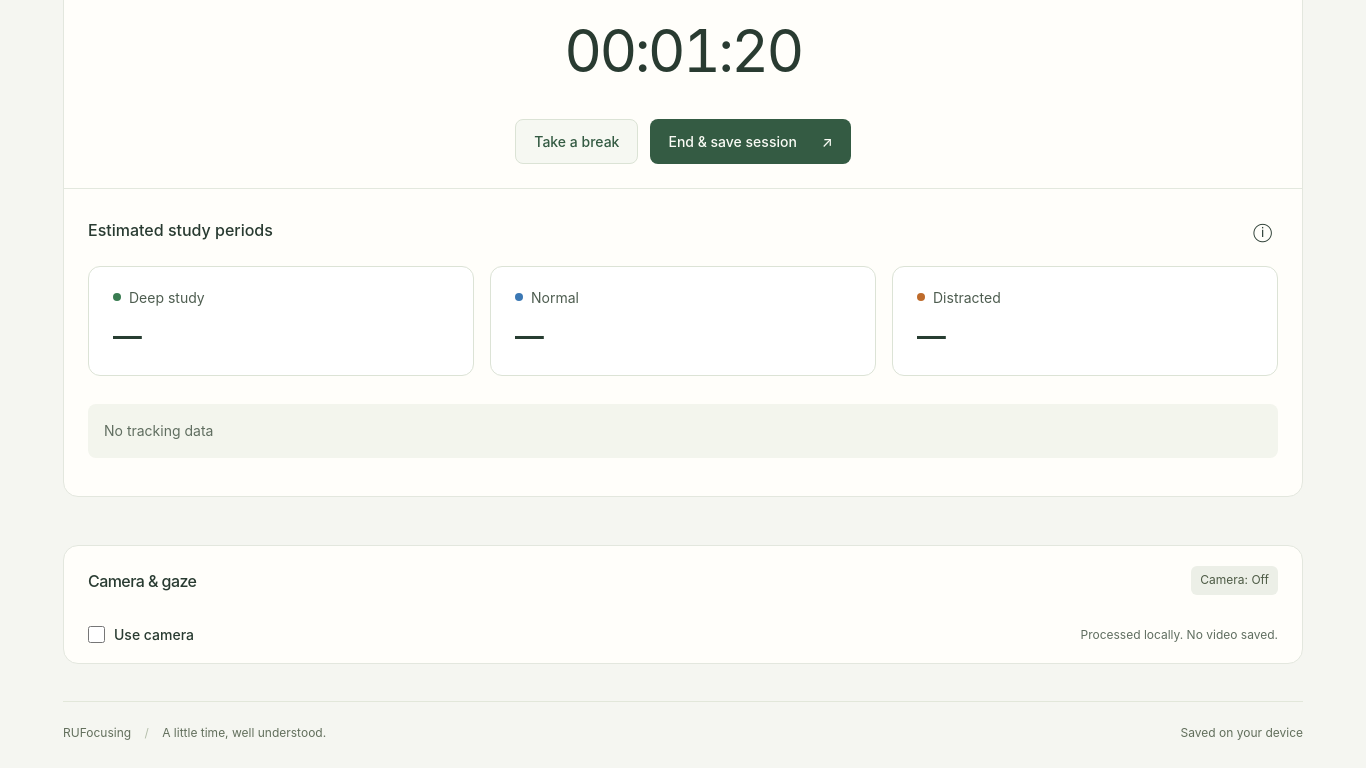
it: Dashboard camera controls › toggles observations without changing the timer and closes the preview on disable
The width and height of the screenshot is (1366, 768).
(page scrolled)
Click the checkbox labelled "Use camera" at (96, 635), box [88,626,105,644]
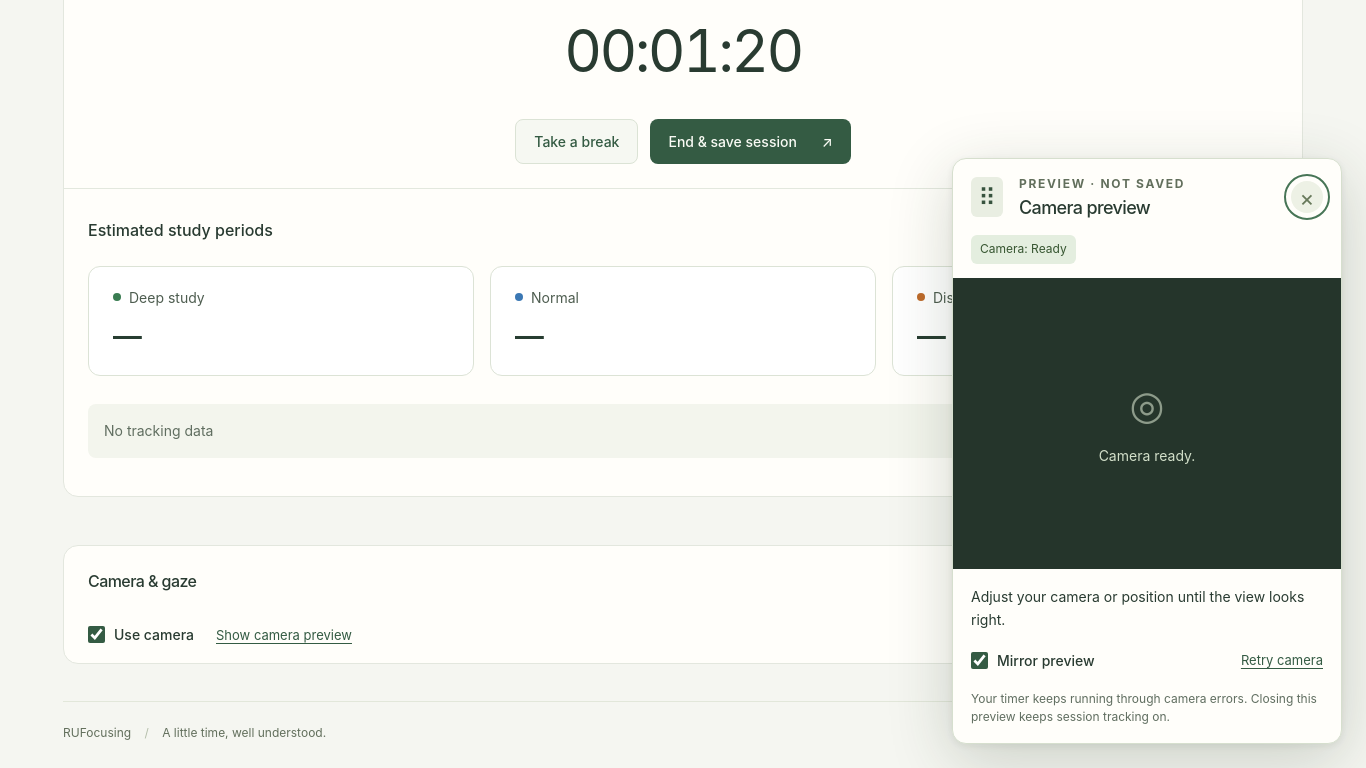
Expected: the text "00:01:20" is shown, [564,15,802,86]
Expected: the checkbox labelled "Use camera" is checked
Expected: the dialog is shown, [952,158,1342,744]
Click the checkbox labelled "Use camera" at (96, 635), box [88,626,105,644]
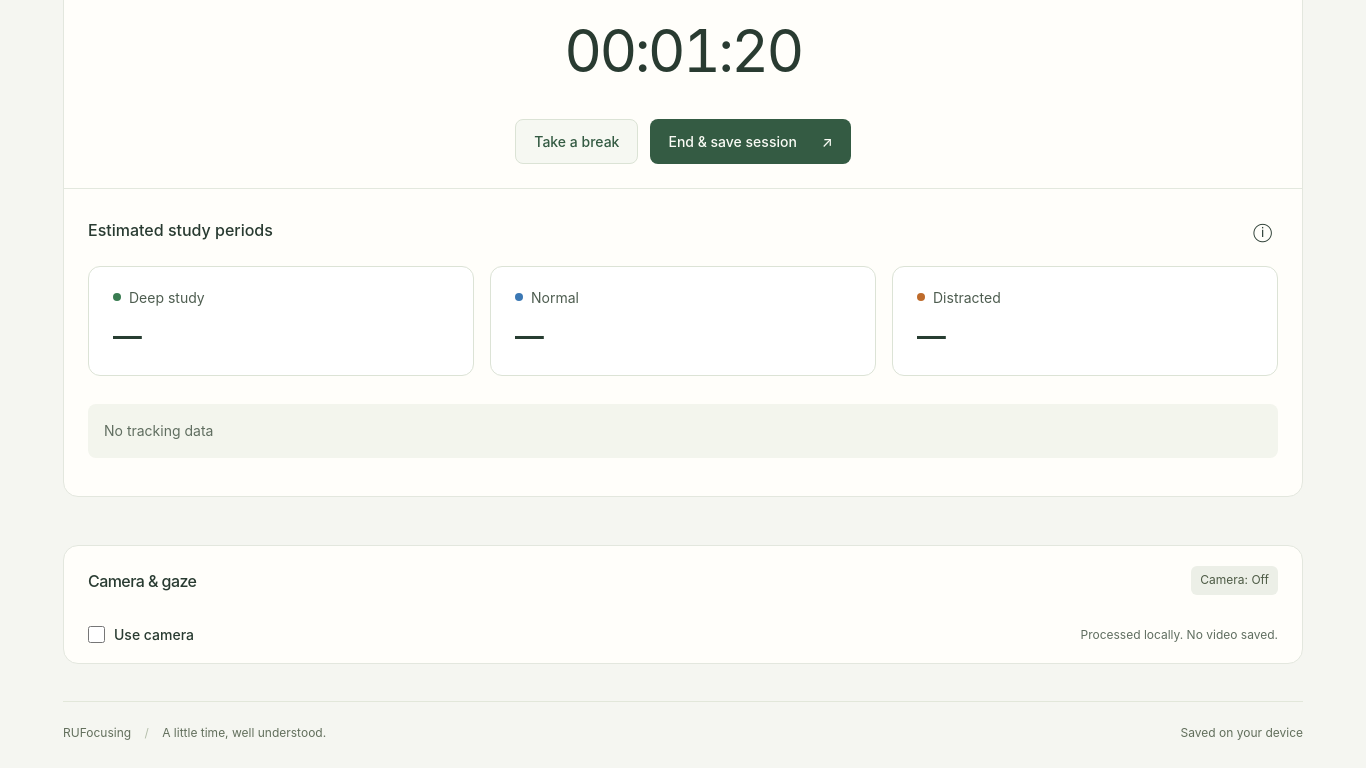
Expected: the checkbox labelled "Use camera" is not checked, [88,626,105,644]
Expected: the heading "Camera preview" is gone
Expected: the text "Camera: Off" is shown, [1191,566,1278,595]
